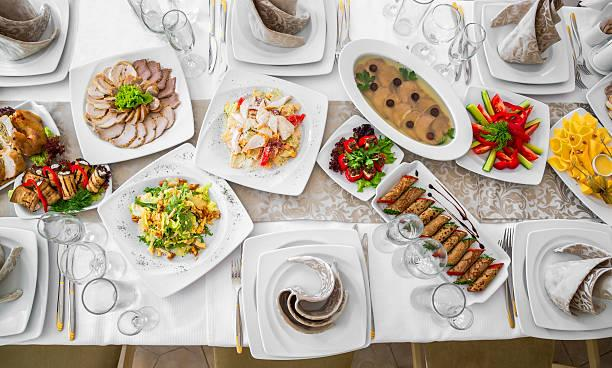Braised Crucian Carp: (96, 147, 249, 295), (368, 161, 512, 303), (338, 33, 473, 163), (195, 72, 323, 196), (70, 46, 194, 165), (454, 86, 552, 185), (545, 105, 612, 219)
